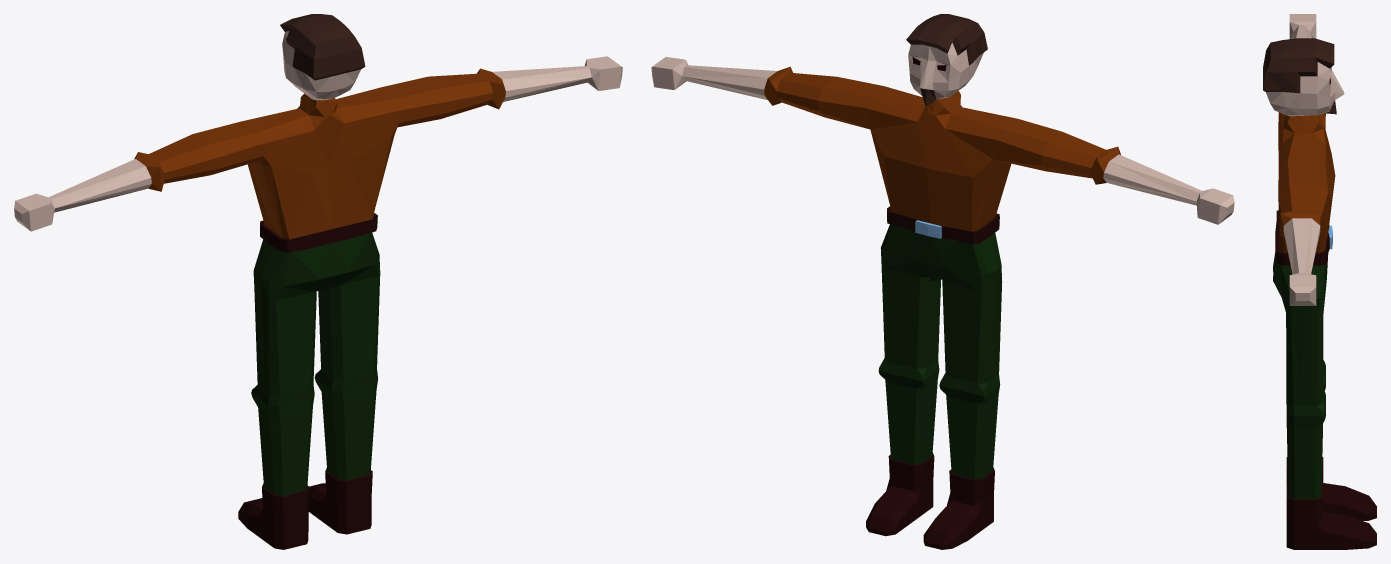
Rendered from HomeWork24.fbx.
The picture shows the model from 3 angles, left to right: view 1: azimuth 30°, elevation 25°; view 2: azimuth 150°, elevation 25°; view 3: azimuth 270°, elevation 25°; orthographic projection. The views are drawn at different scales.
Visible parts, largest first — view 1: Swordsman; view 2: Swordsman; view 3: Swordsman.
Boxes of the visible parts, x1,y1,x2,y2 form: Swordsman: [14, 14, 622, 549]; Swordsman: [651, 14, 1234, 549]; Swordsman: [1263, 14, 1376, 549].
Size of the model in its own units: 1898 by 1544 by 329.
